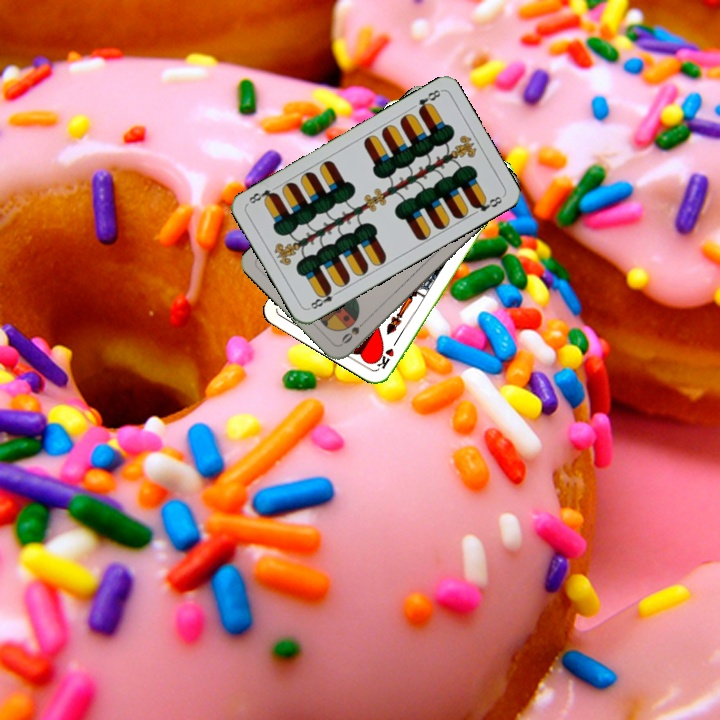E8: (407, 86, 444, 115), (305, 284, 342, 312)
HK: (373, 334, 401, 372)
SO: (337, 315, 370, 347)
